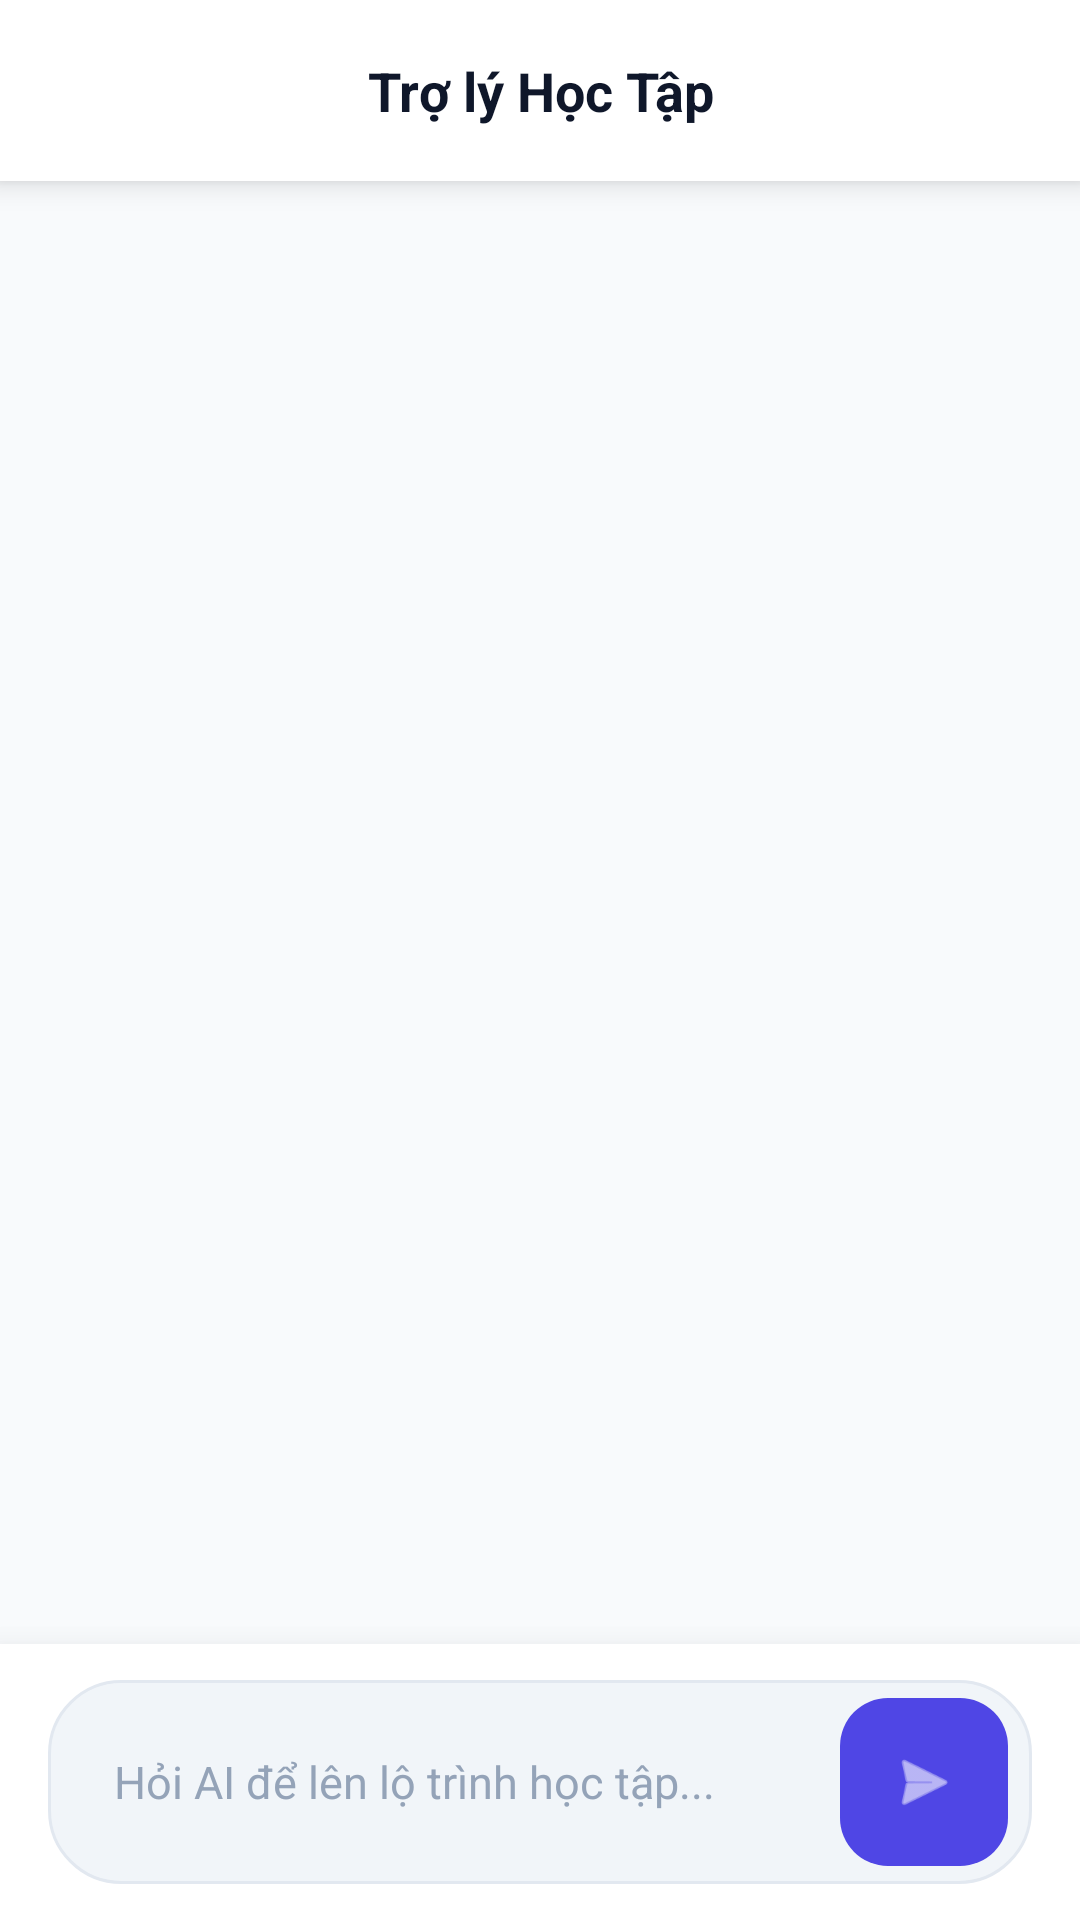

Icons on this 1080 x 1920 Android screen, each with the point to tap as [x,y]:
Gửi tin nhắn: [924,1782]
